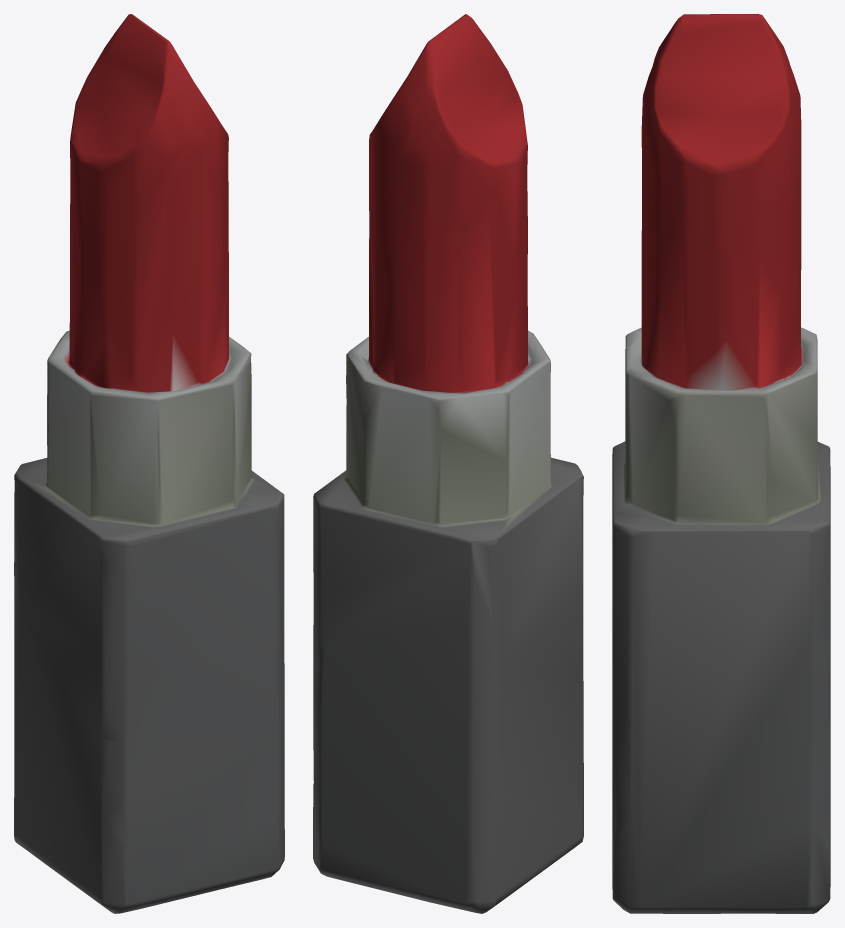
The model's file is gen3d-lipstick-lod1.glb.
3 renders of one model, left to right at view 1: azimuth 30°, elevation 25°; view 2: azimuth 150°, elevation 25°; view 3: azimuth 270°, elevation 25°, orthographic. The views are drawn at different scales.
Parts seen in each view (by area): view 1: part_0; view 2: part_0; view 3: part_0.
Part boxes in pixels (left/top/right/bottom): part_0: left=14, top=14, right=284, bottom=913; part_0: left=313, top=14, right=583, bottom=913; part_0: left=612, top=14, right=830, bottom=913.
Size of the model in its own units: 0.2301 by 1 by 0.2301.
